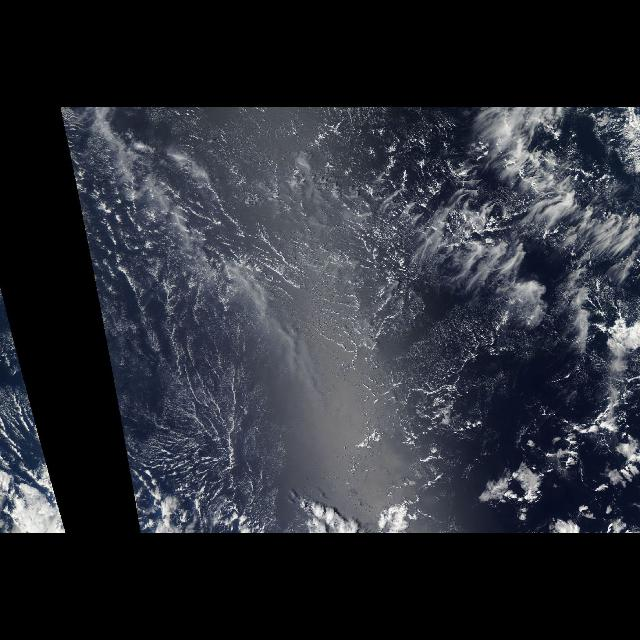Sugar: (59, 108, 633, 496), (10, 319, 56, 496)
